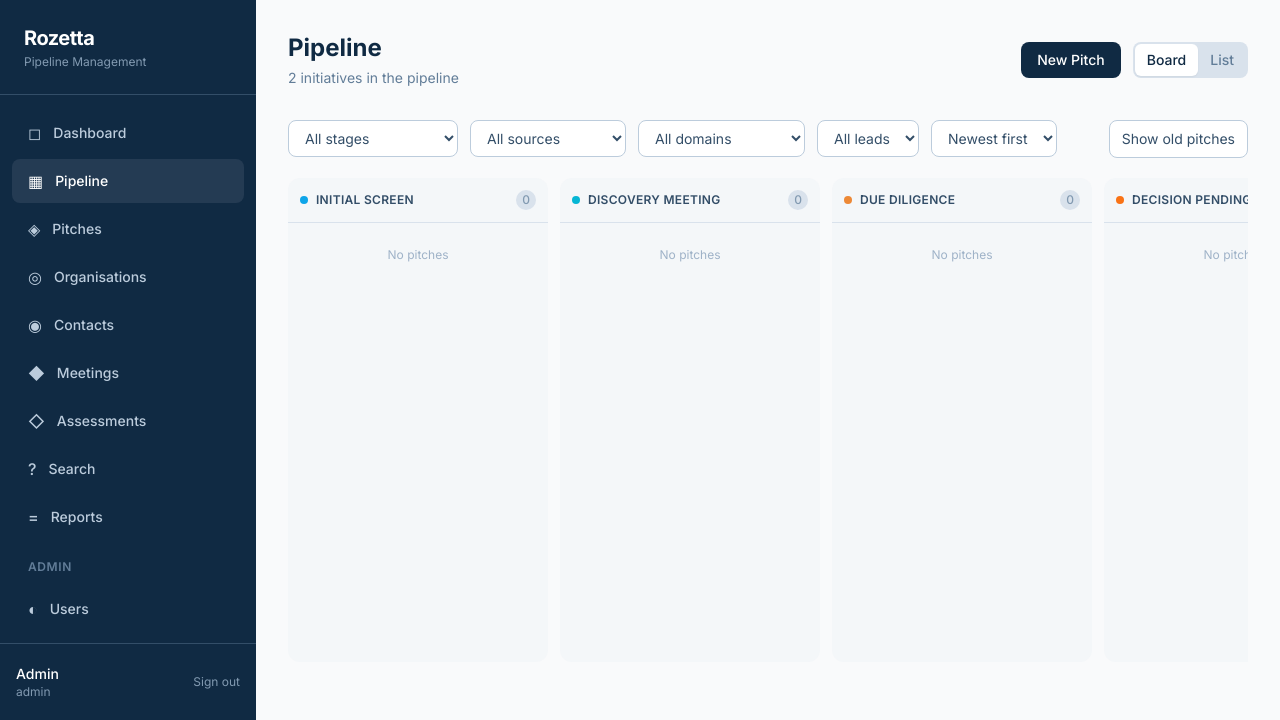
Scenario: PipelinePage hides long-closed pitches › leaves them out of the list view too
Click the button "List": (1222, 60) [1198,44,1246,76]
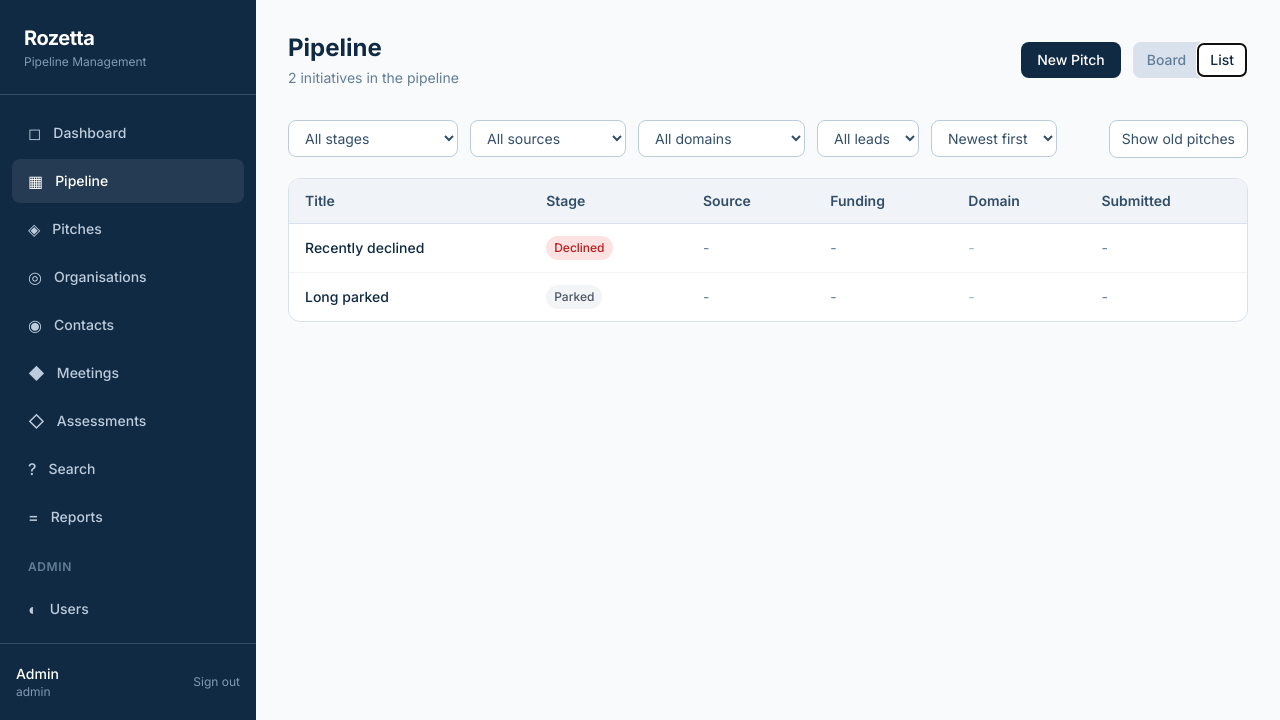
Expected: the text "Recently declined" is shown, [305,239,424,256]
